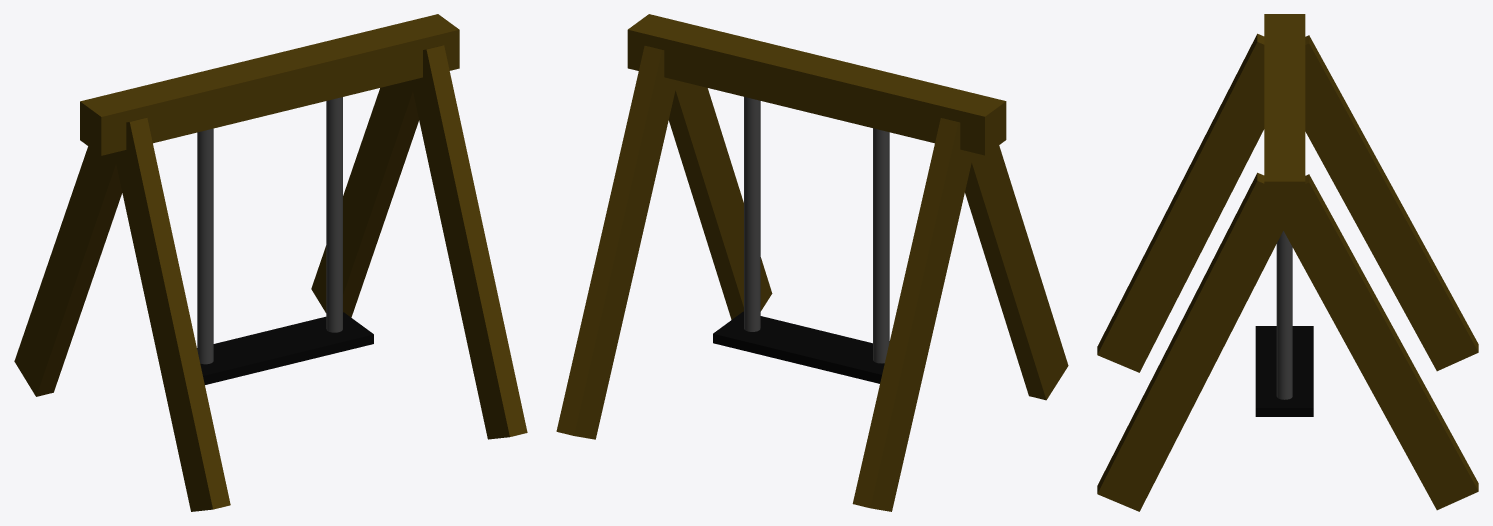
File: Swings.fbx
The picture shows the model from 3 angles, left to right: view 1: azimuth 30°, elevation 25°; view 2: azimuth 150°, elevation 25°; view 3: azimuth 270°, elevation 25°; orthographic projection. The views are drawn at different scales.
Visible parts, largest first — view 1: pCube6, pCube8; view 2: pCube6, pCube8; view 3: pCube6, pCube8.
Part boxes in pixels (left/top/right/bottom): pCube6: left=14, top=14, right=527, bottom=511; pCube8: left=197, top=97, right=373, bottom=384; pCube6: left=556, top=14, right=1068, bottom=511; pCube8: left=713, top=97, right=889, bottom=383; pCube6: left=1097, top=14, right=1478, bottom=511; pCube8: left=1255, top=231, right=1313, bottom=416.
Size of the model in its own units: 20.32 by 19.16 by 19.53.
